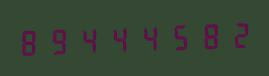eight: (17, 24, 45, 59), (191, 18, 219, 53)
five: (162, 19, 190, 54)
four: (75, 22, 103, 57), (104, 21, 132, 56), (133, 20, 161, 55)
nine: (46, 23, 74, 58)
two: (220, 17, 248, 52)
